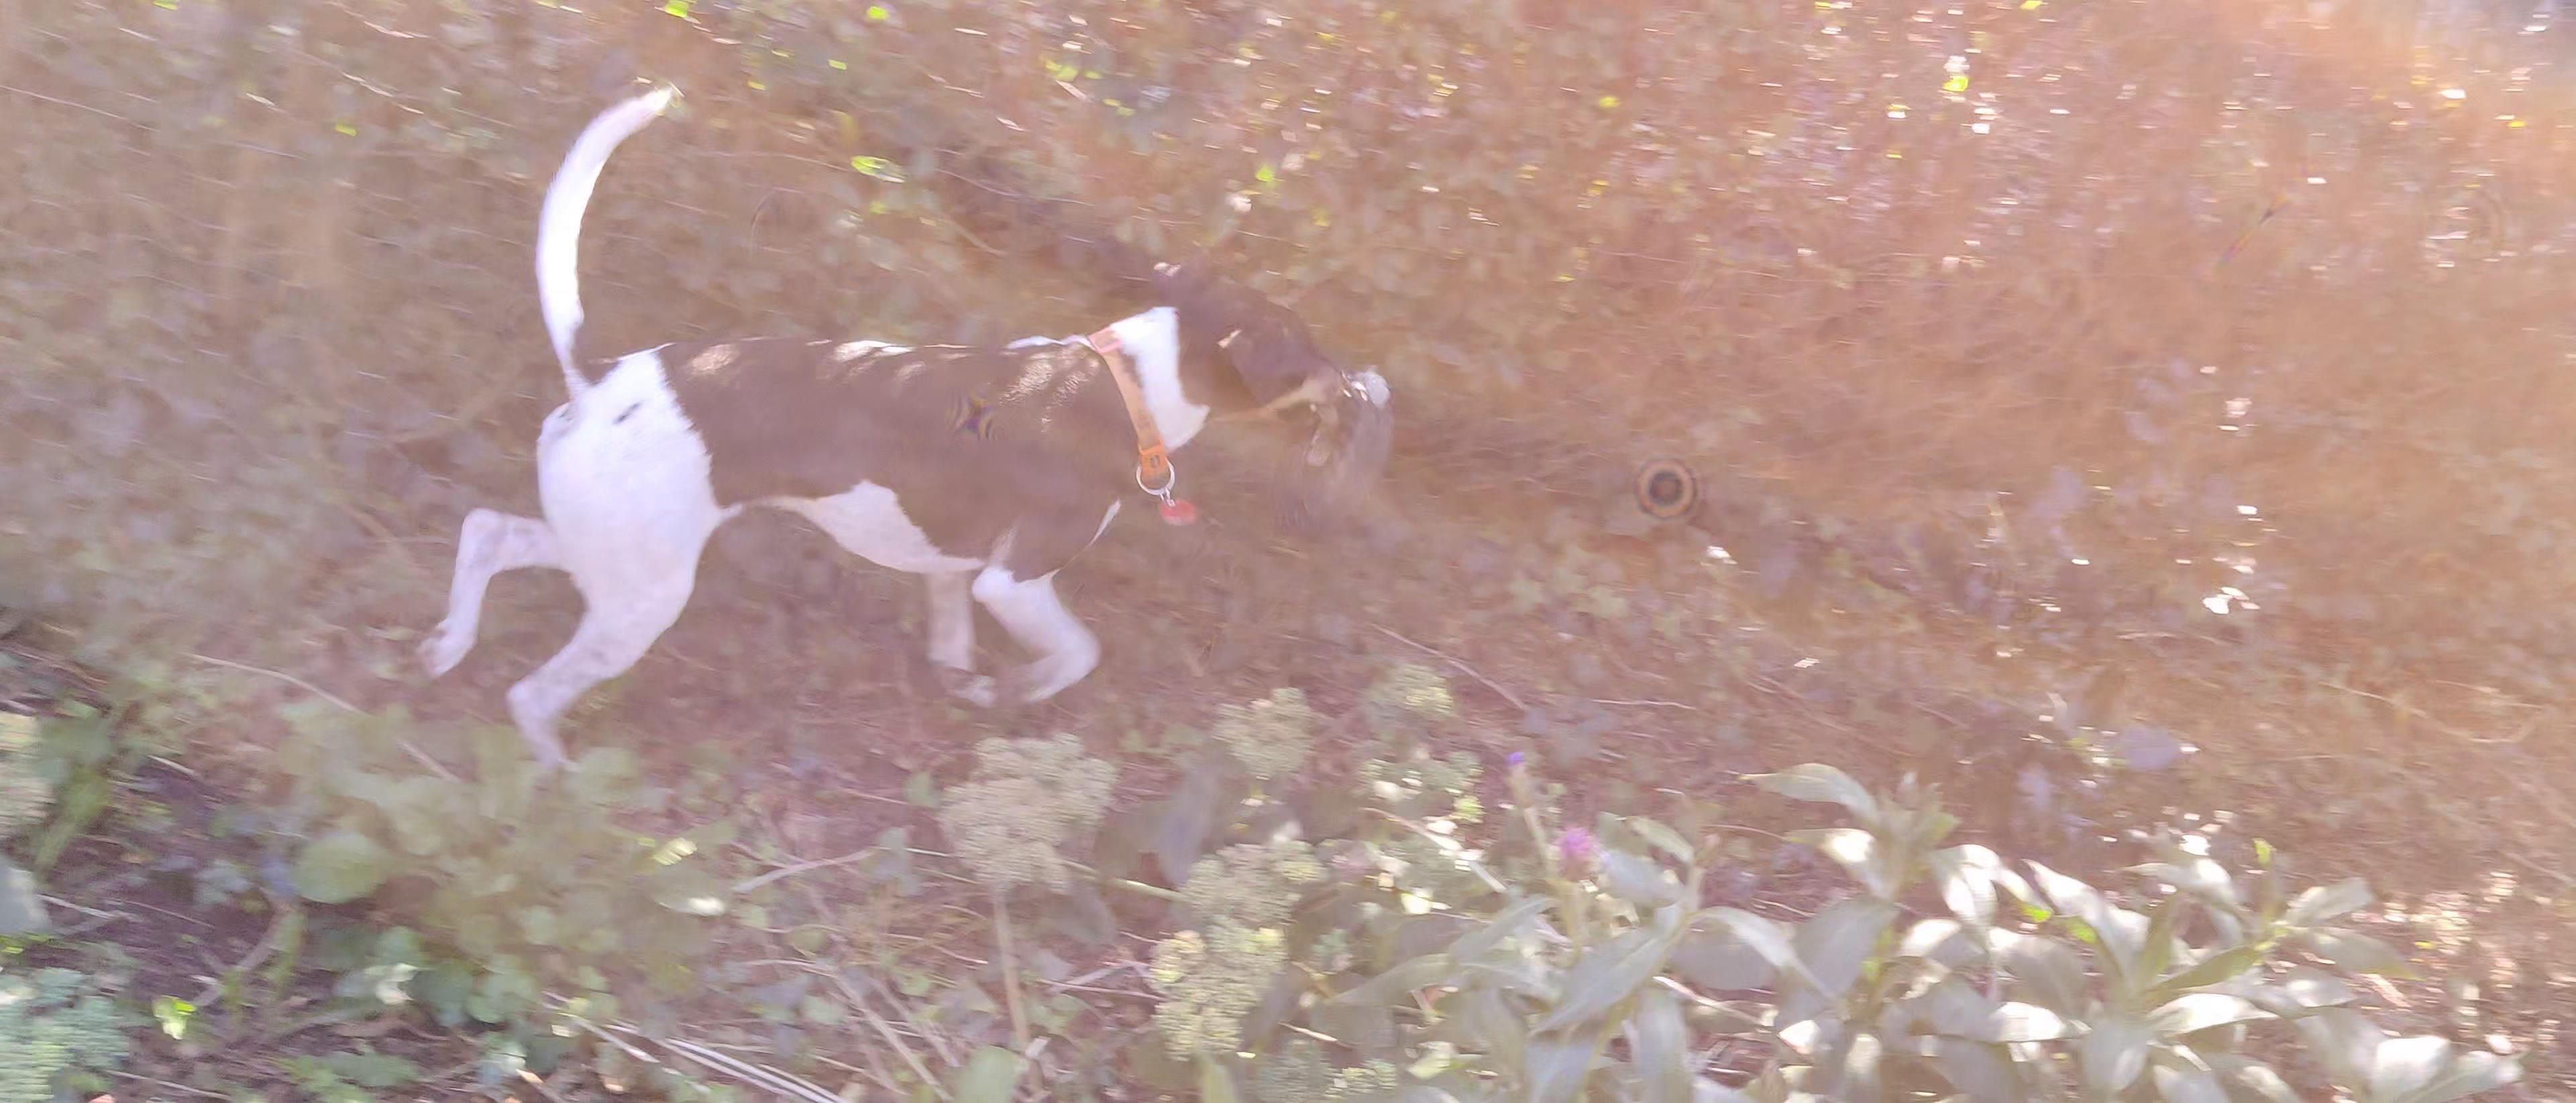Dog: (412, 72, 1352, 774)
